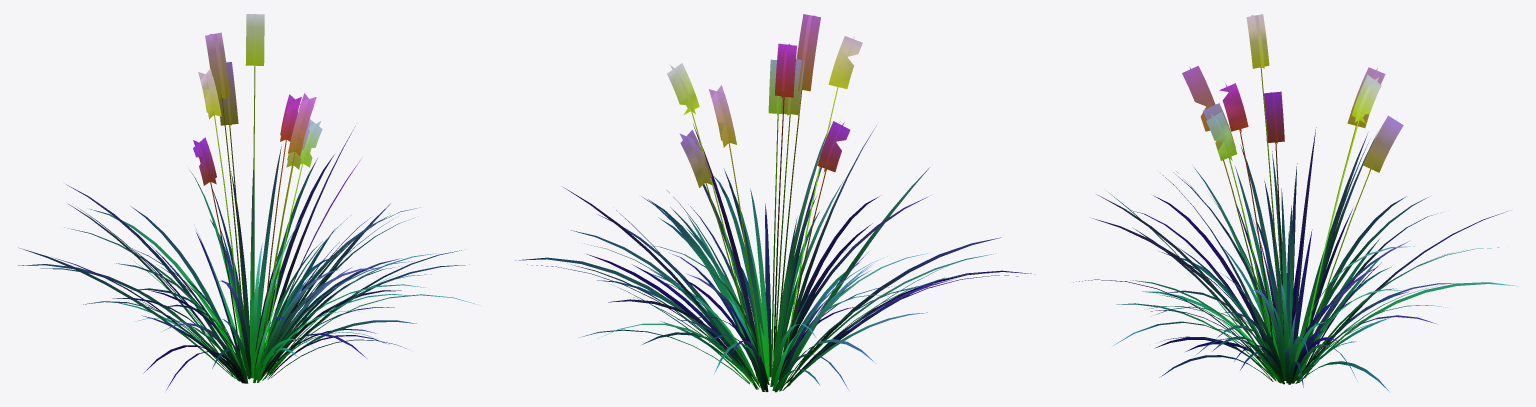
The model's file is Grass_Cogon_B_HD.fbx.
The picture shows the model from 3 angles, left to right: view 1: azimuth 30°, elevation 25°; view 2: azimuth 150°, elevation 25°; view 3: azimuth 270°, elevation 25°; orthographic projection. The views are drawn at different scales.
Parts seen in each view (by area): view 1: Grass_Cogon_B_HD_LOD0; view 2: Grass_Cogon_B_HD_LOD0; view 3: Grass_Cogon_B_HD_LOD0.
Boxes of the visible parts, <box> form: Grass_Cogon_B_HD_LOD0: <box>18,14,477,390</box>; Grass_Cogon_B_HD_LOD0: <box>515,14,1034,392</box>; Grass_Cogon_B_HD_LOD0: <box>1073,14,1518,391</box>.
Size of what is drawn, in the model's own units: 1.14 by 0.8996 by 1.12.
